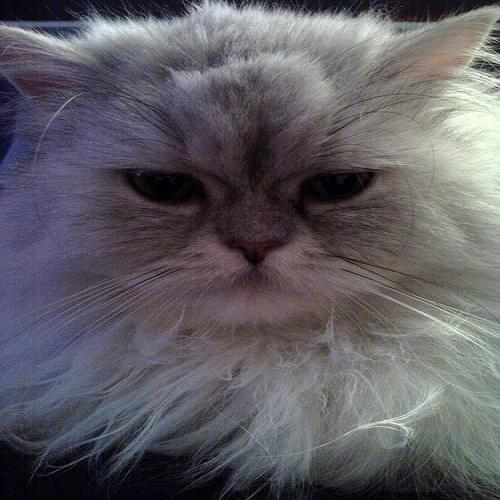persian: (1, 1, 500, 352)
